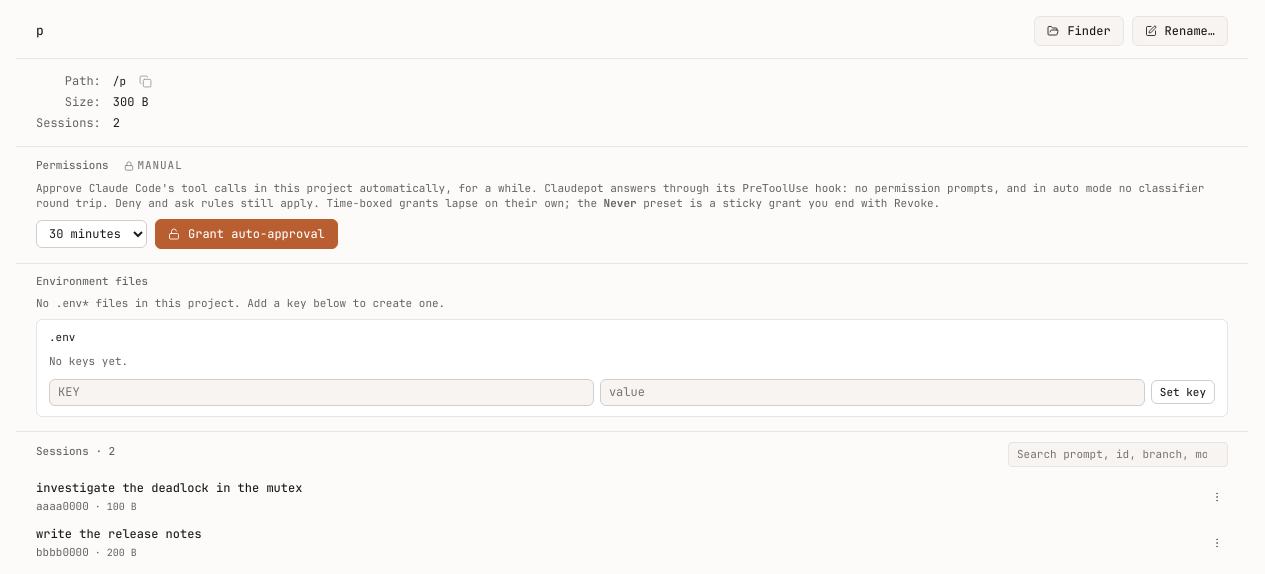
it: ProjectDetail › filters sessions by prompt text
expect the heading "Sessions · 2" is shown: met, box 36,444 -> 115,459
expect the text "investigate the deadlock in the mutex" is shown: met, box 36,481 -> 302,497
Step 1. Type "deadlock" into the search field named "search sessions" → (1118, 454), box 1008,442 -> 1228,467
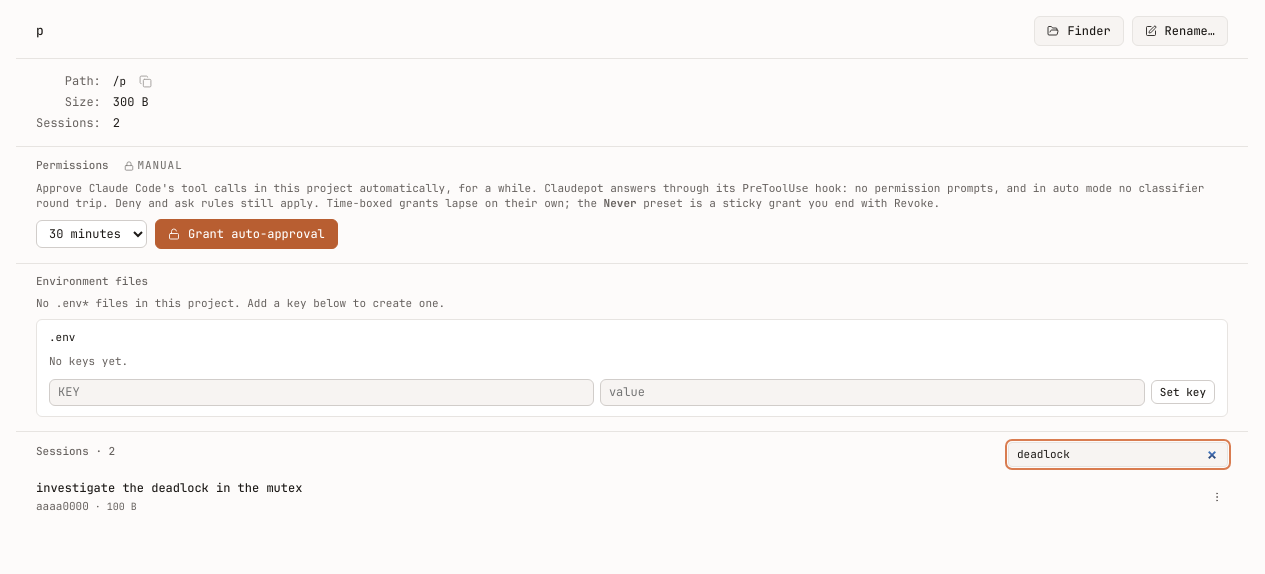
expect the text "investigate the deadlock in the mutex" is shown: met, box 36,481 -> 302,497
expect the option "write the release notes" is gone: met
